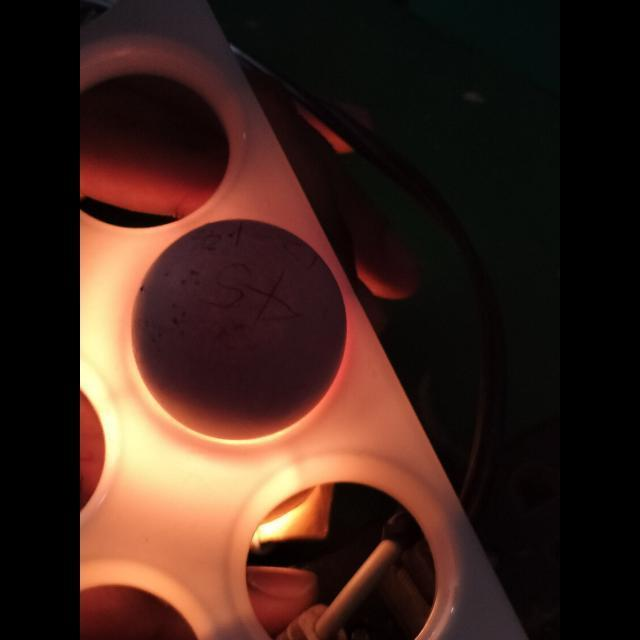A - Good: (123, 212, 357, 444)
